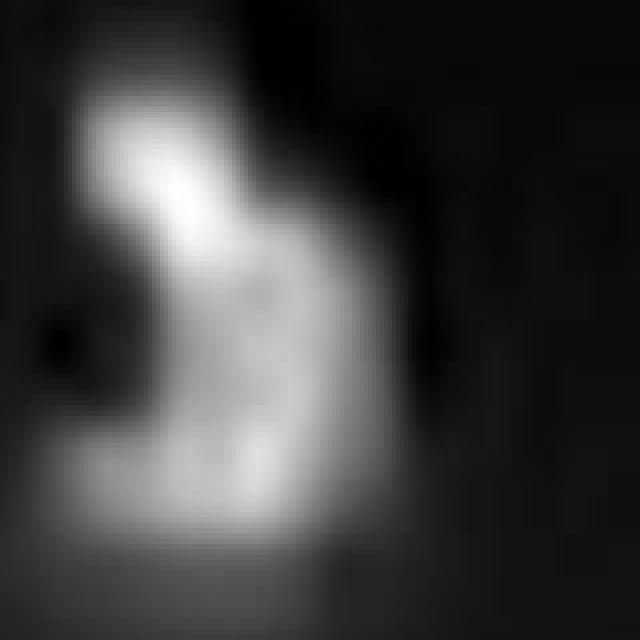person: (41, 55, 427, 616)
